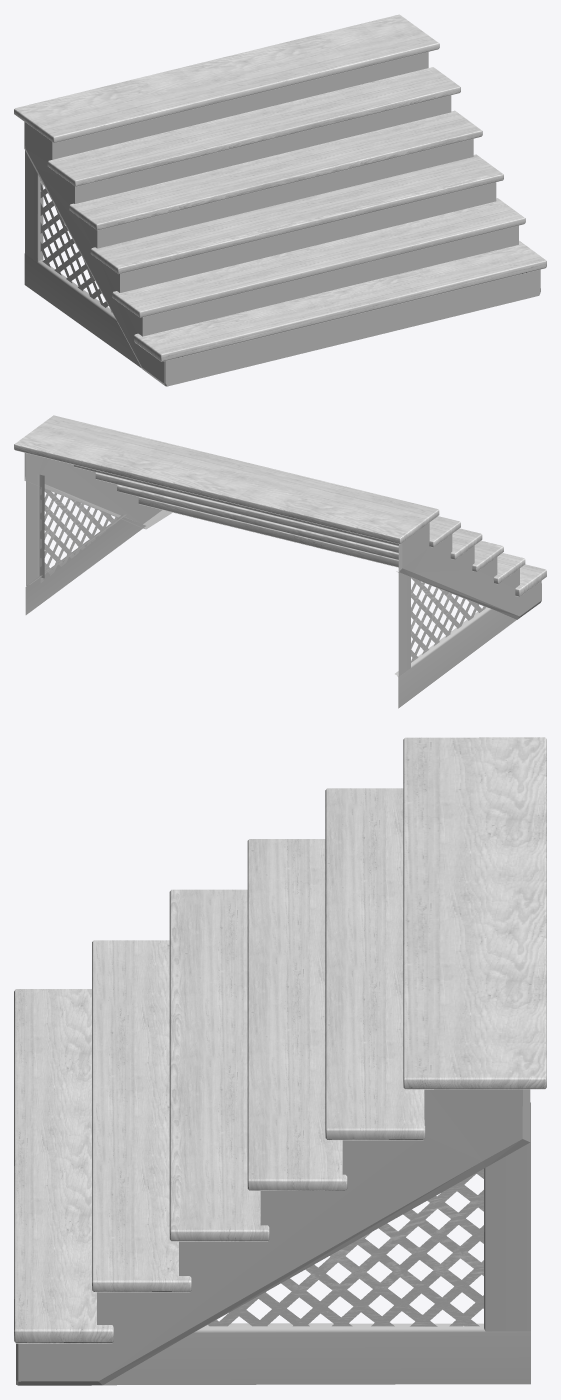
Rendered from Terrace_Stairs_A3.fbx.
3 renders of one model, top to bottom at view 1: azimuth 30°, elevation 25°; view 2: azimuth 150°, elevation 25°; view 3: azimuth 270°, elevation 25°, orthographic. The views are drawn at different scales.
Visible parts, largest first — view 1: Terrace_Stairs_A3; view 2: Terrace_Stairs_A3; view 3: Terrace_Stairs_A3.
Boxes of the visible parts, <box> form: Terrace_Stairs_A3: <box>14,14,546,386</box>; Terrace_Stairs_A3: <box>14,415,546,708</box>; Terrace_Stairs_A3: <box>14,737,546,1385</box>.
Size of the model in its own units: 201 by 86.94 by 132.
